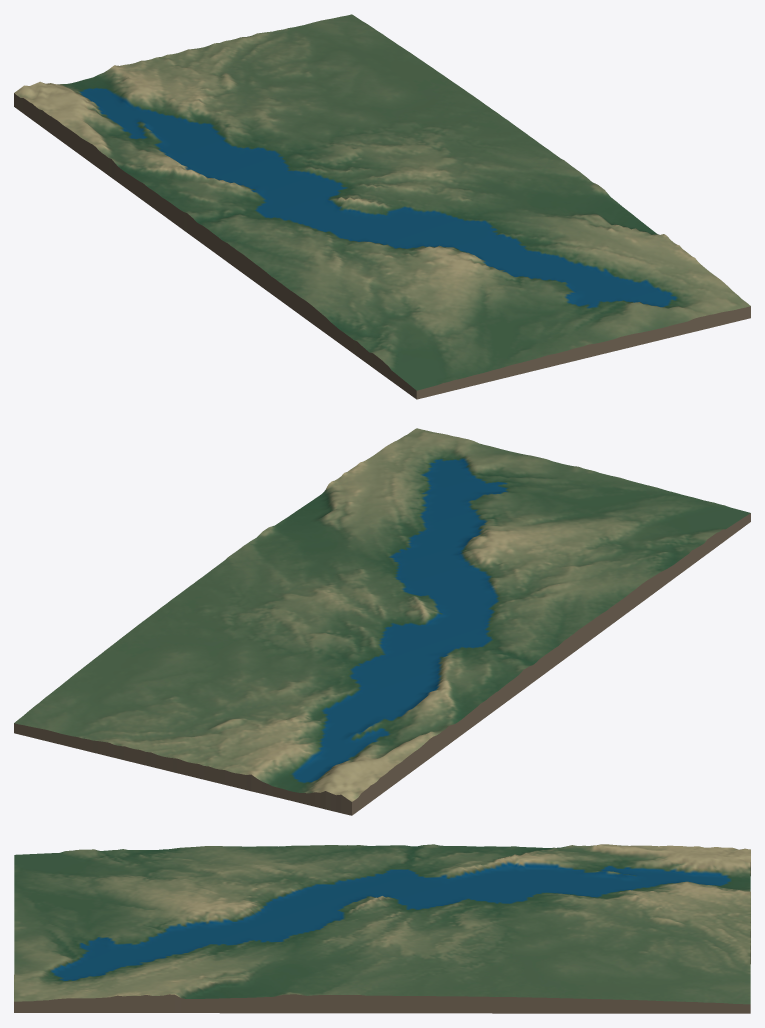
Rendered from terrain3d-tanganyika.glb.
3 views of the same model, one above another, from view 1: azimuth 30°, elevation 25°; view 2: azimuth 150°, elevation 25°; view 3: azimuth 270°, elevation 25° (orthographic). The views are drawn at different scales.
Visible parts, largest first — view 1: Measured elevation surface, Opaque geographic crop sides; view 2: Measured elevation surface, Opaque geographic crop sides; view 3: Measured elevation surface, Opaque geographic crop sides.
Boxes of the visible parts, box(x1,y1,x2,y2) form: Measured elevation surface: box(14, 14, 750, 390); Opaque geographic crop sides: box(14, 93, 750, 399); Measured elevation surface: box(14, 428, 750, 801); Opaque geographic crop sides: box(14, 513, 750, 815); Measured elevation surface: box(14, 844, 750, 1004); Opaque geographic crop sides: box(14, 862, 750, 1013).
Bounding box in the file's own units: 322273 × 23676 × 662337.
2 materials, 1 textured.
